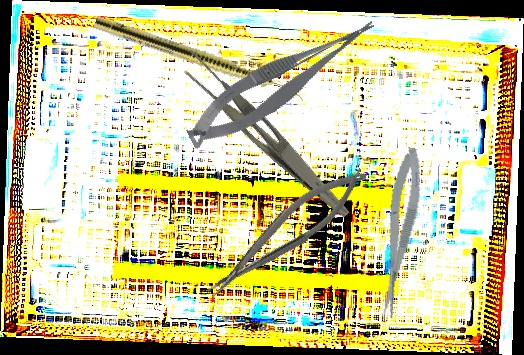Dressing Forceps: (170, 46, 367, 220)
Handpiece: (92, 14, 308, 104)
Micro Scissor: (174, 11, 391, 155), (370, 145, 429, 320)
Needle Holder: (194, 158, 377, 306)
